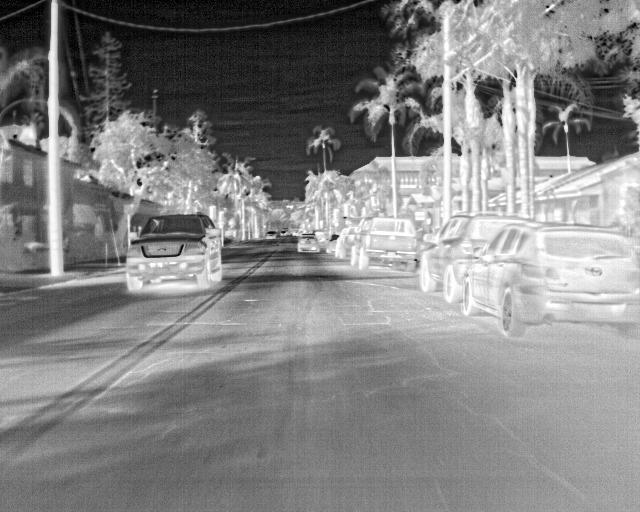car: (463, 223, 638, 338), (416, 214, 531, 293), (123, 213, 224, 291), (349, 218, 420, 270), (443, 257, 463, 304), (298, 233, 320, 254), (335, 227, 349, 259), (324, 235, 336, 251), (314, 226, 327, 239), (265, 229, 276, 239)
